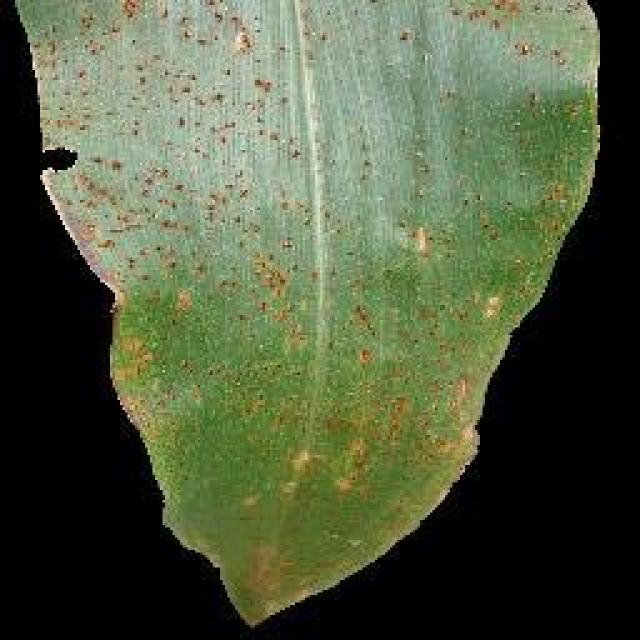Corn Common Rust: (135, 100, 502, 493)
